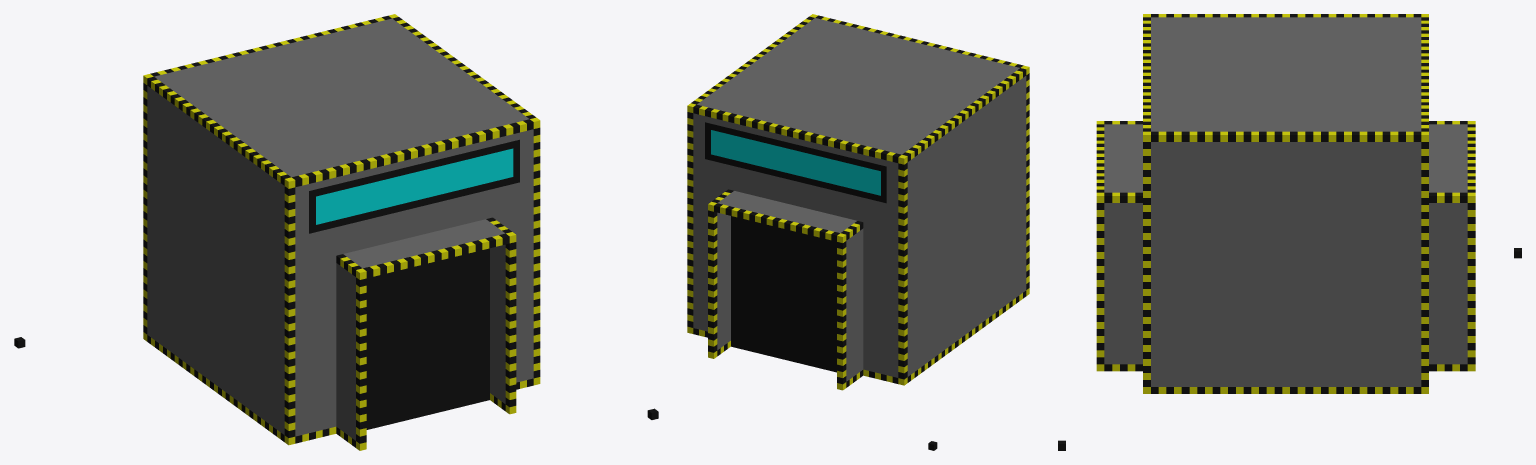
Rendered from hub.glb.
The picture shows the model from 3 angles, left to right: view 1: azimuth 30°, elevation 25°; view 2: azimuth 150°, elevation 25°; view 3: azimuth 270°, elevation 25°; orthographic projection. The views are drawn at different scales.
Visible parts, largest first — view 1: hub; view 2: hub; view 3: hub.
Boxes of the visible parts, left/top/right/bottom form: hub: left=14, top=14, right=658, bottom=450; hub: left=687, top=14, right=1029, bottom=450; hub: left=1058, top=14, right=1521, bottom=450.
Size of the model in its own units: 6 by 4 by 6.
